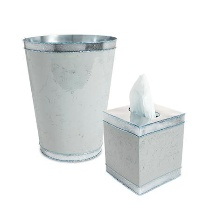tissue: (122, 66, 162, 122)
